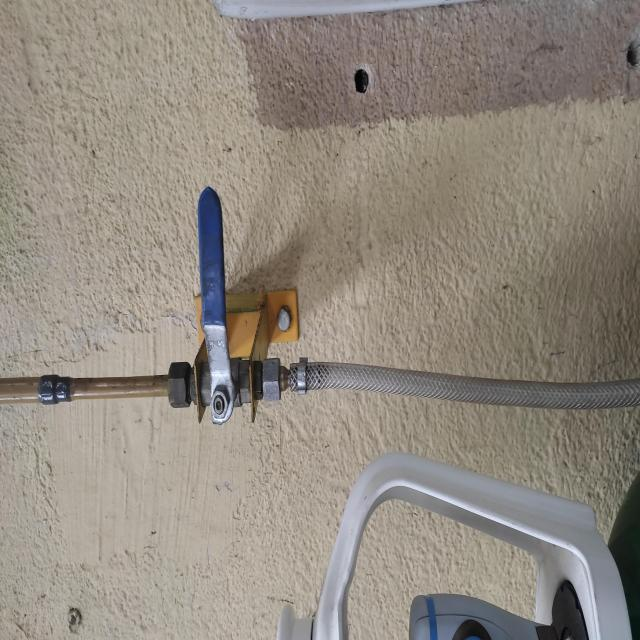closed_valve: (189, 180, 259, 428)
